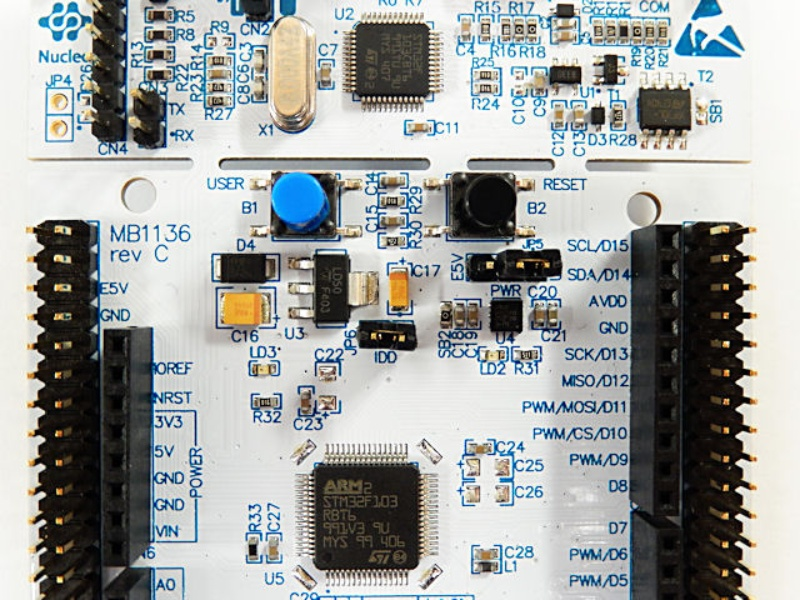stmnucleo: (9, 14, 772, 596)
